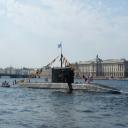submarine: (12, 54, 122, 95)
